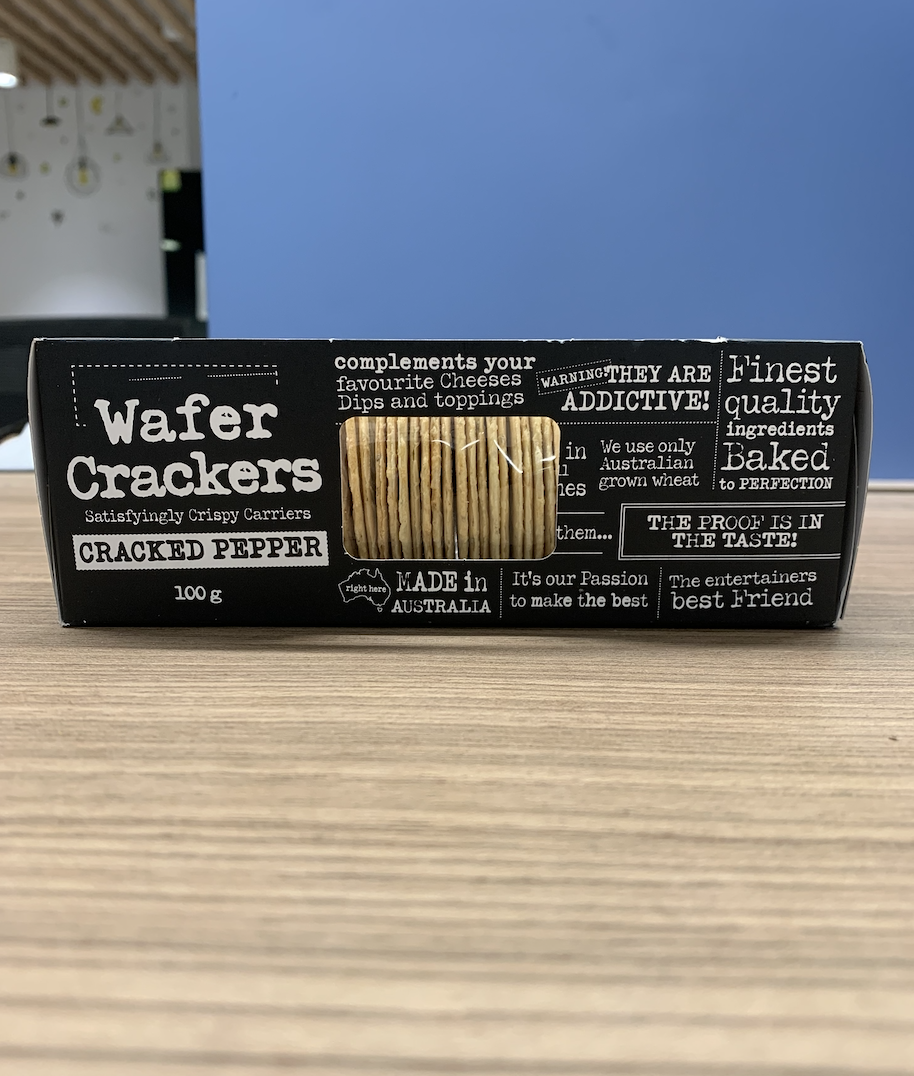crackers_150g: (74, 363, 843, 611)
